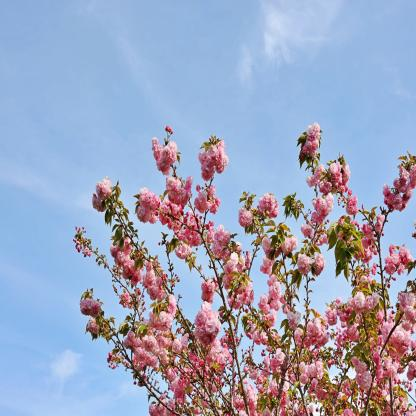YaeSakura: (73, 119, 416, 416)
